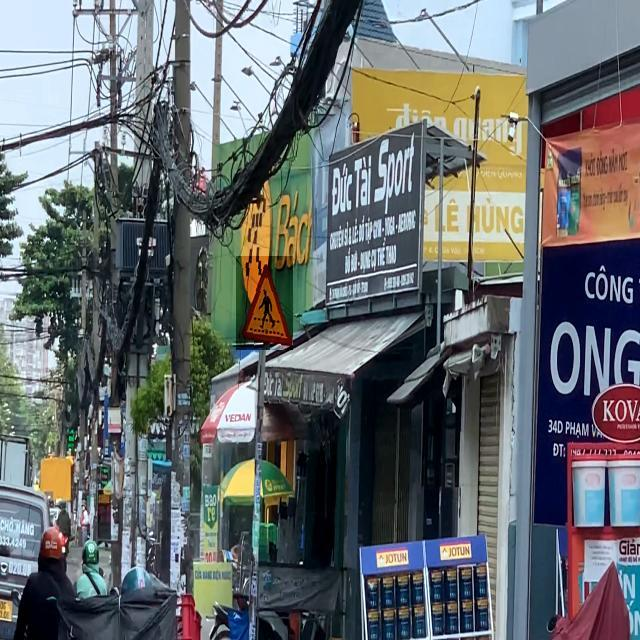W-224: (236, 256, 293, 350)
